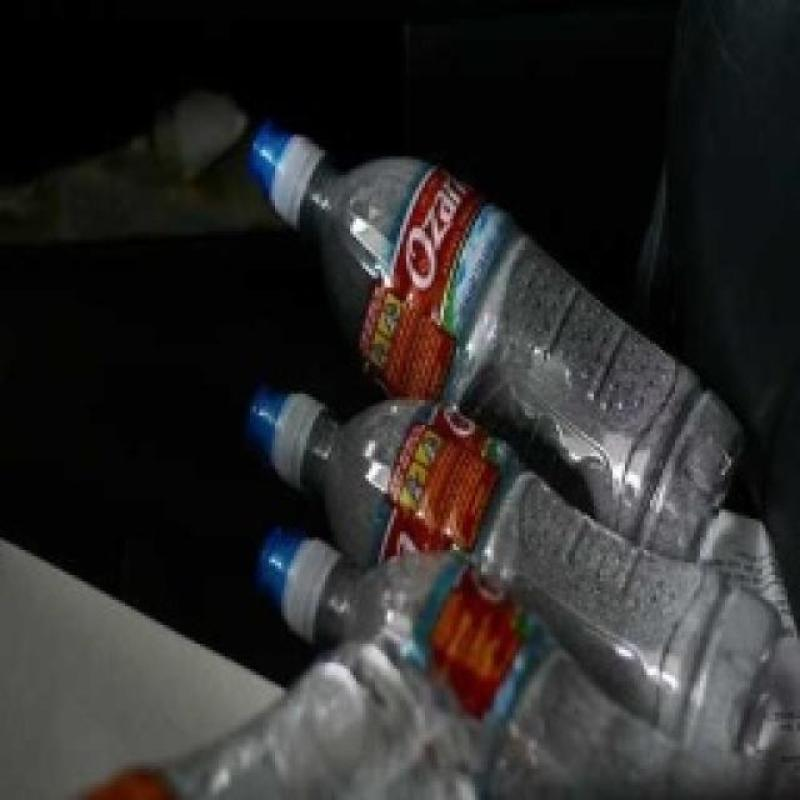botella: (244, 128, 741, 572), (251, 393, 789, 755), (258, 540, 720, 800), (67, 631, 458, 800)
